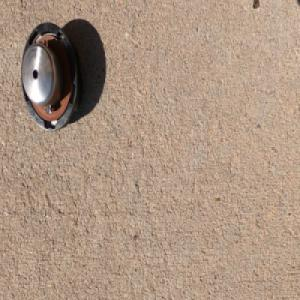FuelCap: (19, 19, 82, 136)
